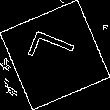L_E: (26, 31, 84, 79)
